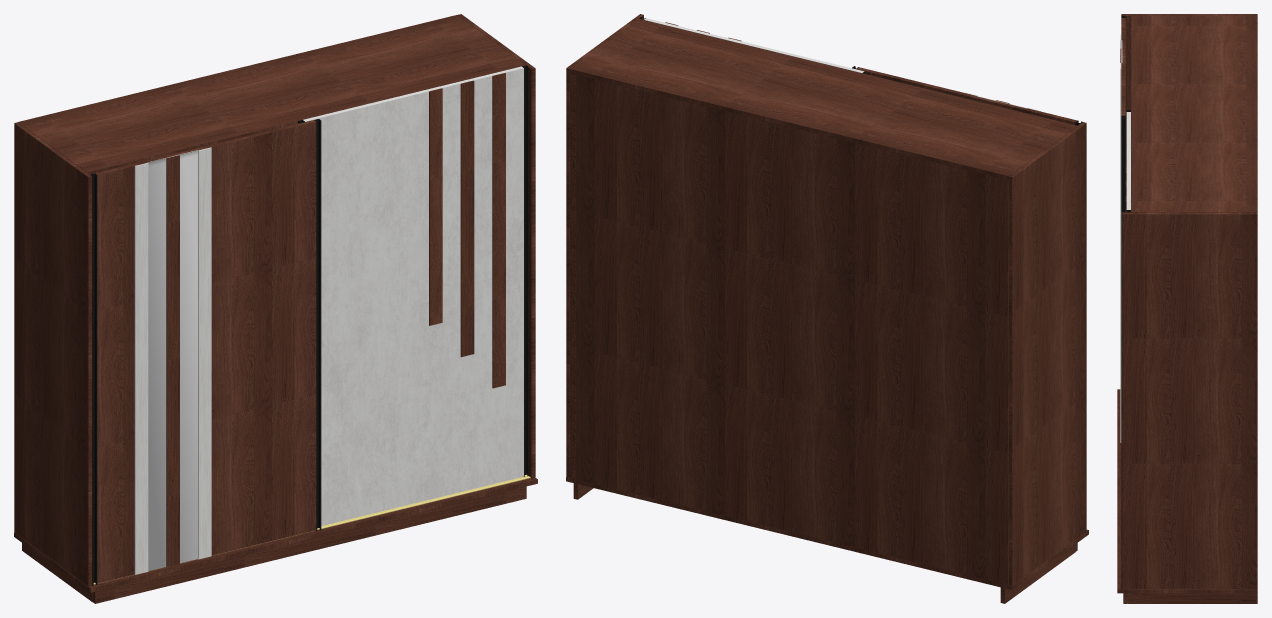
File: ropero2.fbx
3 views of the same model, side by side, from view 1: azimuth 30°, elevation 25°; view 2: azimuth 150°, elevation 25°; view 3: azimuth 270°, elevation 25° (orthographic). The views are drawn at different scales.
Parts seen in each view (by area): view 1: Box011, Box010, Box003, Box019, Box012, Box014, Box013, Box015, Box005, Box016, Box017, Box001 (+5 smaller); view 2: Box009, Box003, Box019, Box001, Box010, Box007; view 3: Box003, Box019, Box001, Box006, Box015, Line003, Box011, Box010.
Boxes of the visible parts, x1=… form: Box011: x1=303, y1=66, x2=523, y2=525; Box010: x1=95, y1=120, x2=316, y2=583; Box003: x1=14, y1=14, x2=535, y2=586; Box019: x1=18, y1=15, x2=525, y2=174; Box012: x1=147, y1=150, x2=197, y2=570; Box014: x1=134, y1=163, x2=148, y2=574; Box013: x1=166, y1=155, x2=179, y2=566; Box015: x1=198, y1=147, x2=211, y2=559; Box005: x1=93, y1=486, x2=526, y2=603; Box016: x1=492, y1=73, x2=505, y2=388; Box017: x1=460, y1=80, x2=474, y2=357; Box001: x1=14, y1=477, x2=537, y2=592; Box009: x1=570, y1=73, x2=1008, y2=584; Box003: x1=566, y1=14, x2=1086, y2=585; Box019: x1=570, y1=19, x2=1076, y2=180; Box001: x1=566, y1=477, x2=1088, y2=590; Box010: x1=857, y1=67, x2=1077, y2=124; Box007: x1=1000, y1=544, x2=1075, y2=603; Box003: x1=1121, y1=14, x2=1257, y2=588; Box019: x1=1131, y1=15, x2=1257, y2=212; Box001: x1=1117, y1=389, x2=1257, y2=593; Box006: x1=1127, y1=593, x2=1257, y2=603; Box015: x1=1120, y1=63, x2=1121, y2=442; Line003: x1=1121, y1=115, x2=1125, y2=212; Box011: x1=1126, y1=112, x2=1130, y2=209; Box010: x1=1121, y1=18, x2=1125, y2=115.
Bounding box in the file's own units: 94.49 × 86.69 × 27.95.
5 materials, 3 textured.
